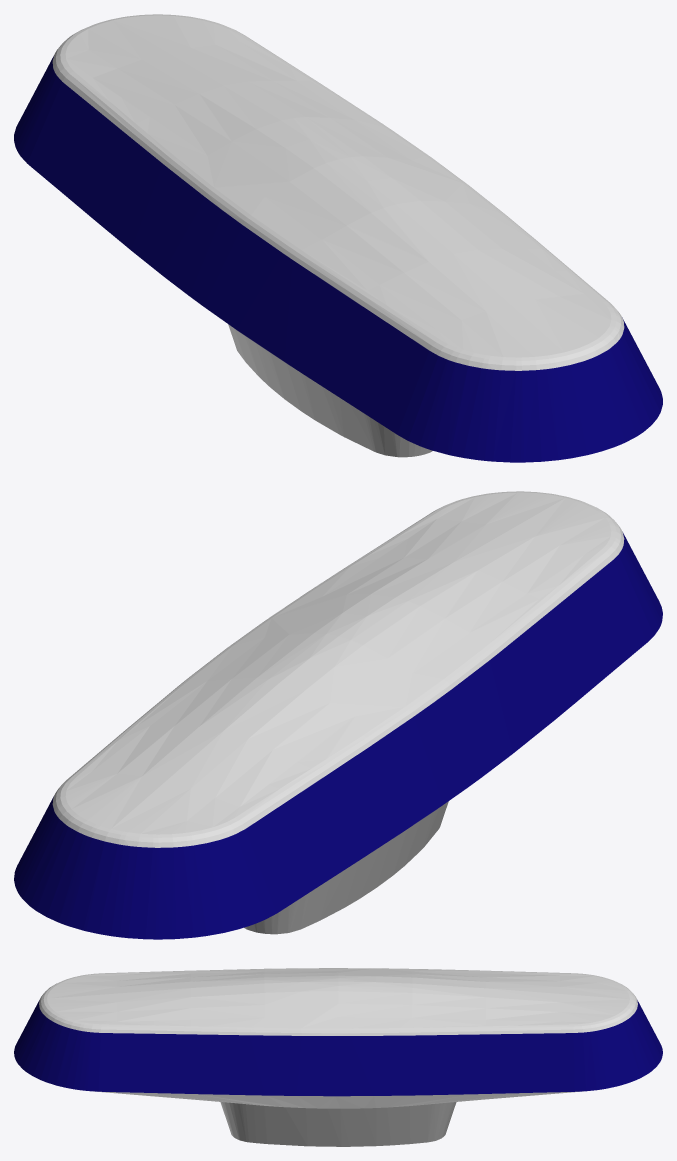
File: DGPSs.dae
The picture shows the model from 3 angles, top to bottom: view 1: azimuth 30°, elevation 25°; view 2: azimuth 150°, elevation 25°; view 3: azimuth 270°, elevation 25°; orthographic projection. The views are drawn at different scales.
Parts seen in each view (by area): view 1: DGPS; view 2: DGPS; view 3: DGPS.
Part boxes in pixels (x1,y1,x2,y2): DGPS: [14, 14, 662, 462]; DGPS: [14, 491, 662, 939]; DGPS: [14, 968, 662, 1146].
Size of the model in its own units: 0.211 by 0.663 by 0.17.
